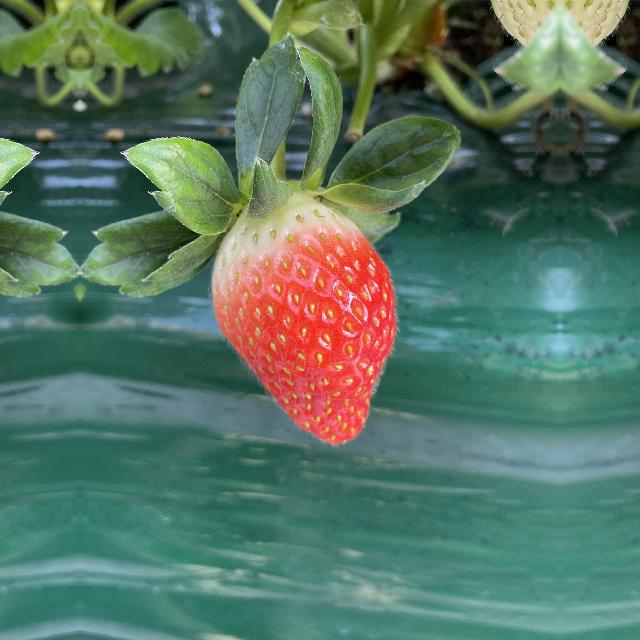Health_100: (206, 197, 400, 443)
